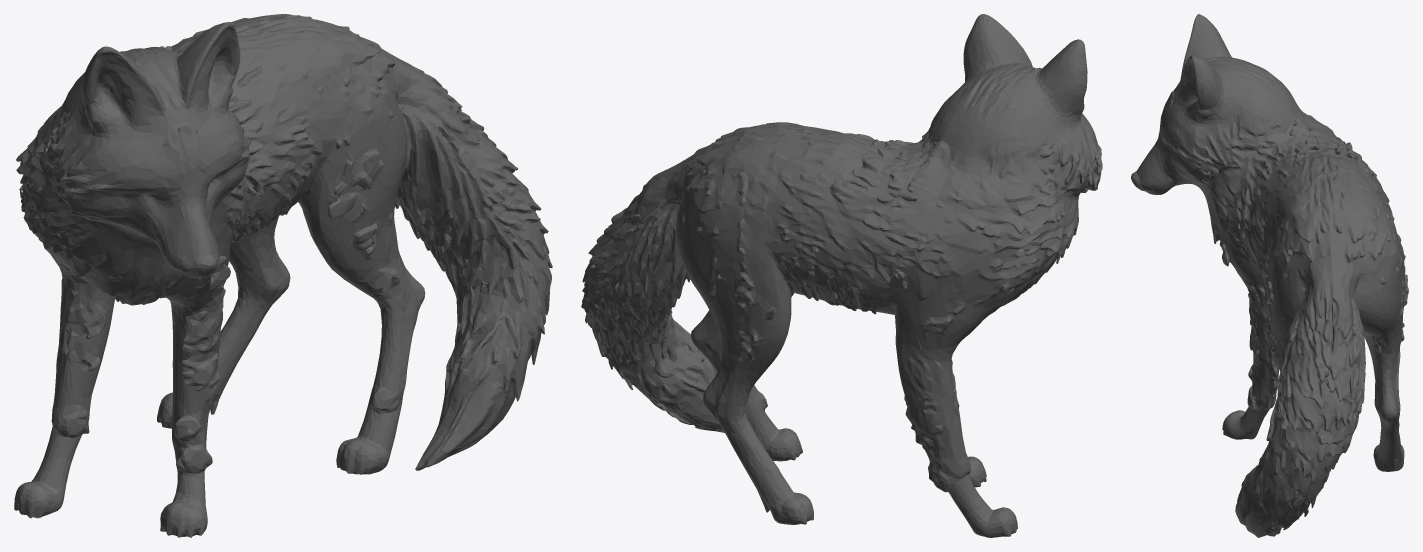
3 renders of one model, left to right at view 1: azimuth 30°, elevation 25°; view 2: azimuth 150°, elevation 25°; view 3: azimuth 270°, elevation 25°, orthographic. The views are drawn at different scales.
Parts seen in each view (by area): view 1: mesh_uvwrap; view 2: mesh_uvwrap; view 3: mesh_uvwrap.
Part boxes in pixels (x1,y1,x2,y2): mesh_uvwrap: (14,14,552,537); mesh_uvwrap: (581,14,1102,537); mesh_uvwrap: (1131,14,1408,537).
Bounding box in the file's own units: 1.99 × 1.85 × 1.21.
1 material, 1 textured.
